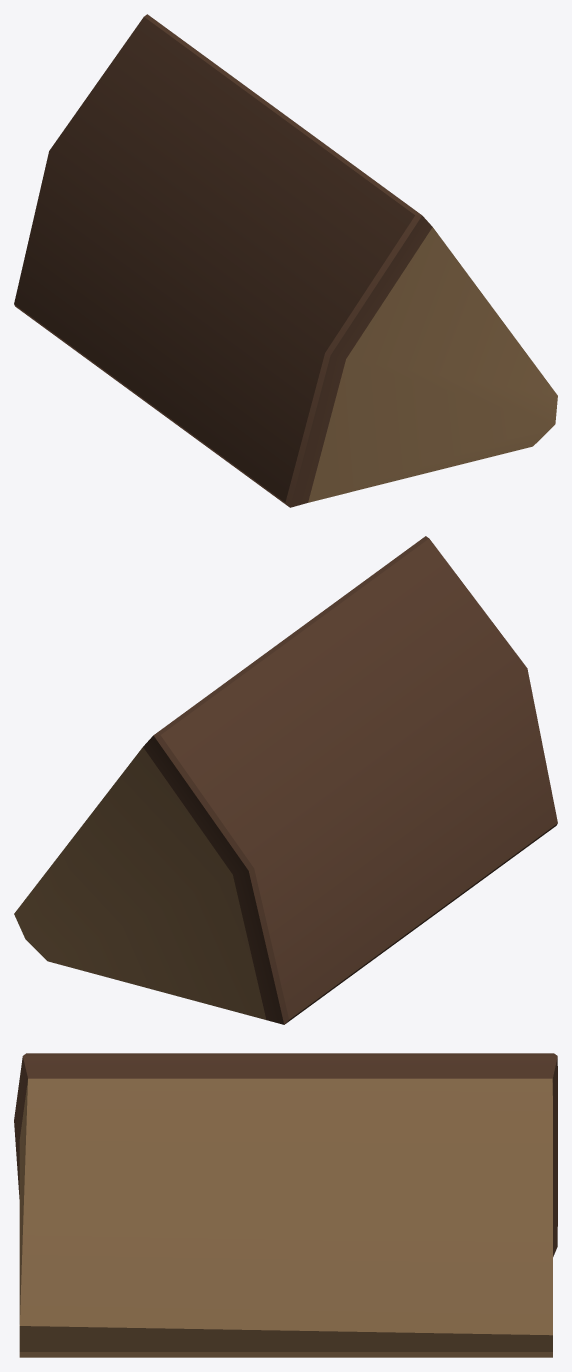
File: CuttedLog.fbx
The picture shows the model from 3 angles, top to bottom: view 1: azimuth 30°, elevation 25°; view 2: azimuth 150°, elevation 25°; view 3: azimuth 270°, elevation 25°; orthographic projection. The views are drawn at different scales.
Parts seen in each view (by area): view 1: Holzstück; view 2: Holzstück; view 3: Holzstück.
Part boxes in pixels (left/top/right/bottom): Holzstück: left=14, top=14, right=557, bottom=507; Holzstück: left=14, top=536, right=557, bottom=1024; Holzstück: left=14, top=1053, right=557, bottom=1357.
Bounding box in the file's own units: 81.67 × 73.52 × 142.
